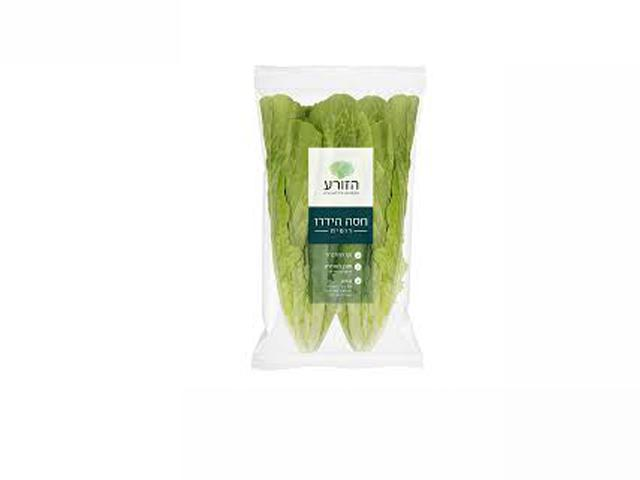lettuce: (238, 83, 418, 355)
